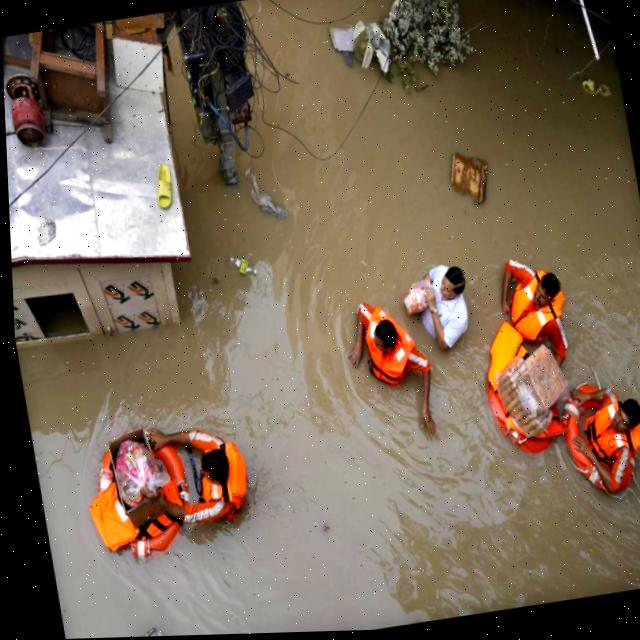civilian: (409, 254, 483, 358)
rescuer: (333, 274, 447, 451), (131, 402, 261, 551), (487, 230, 577, 379), (563, 370, 640, 502)
